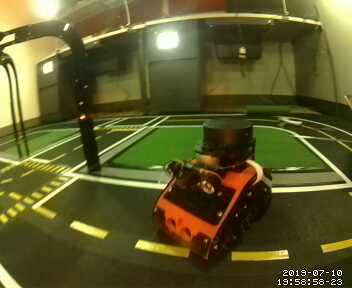pheeno: (149, 117, 276, 273)
